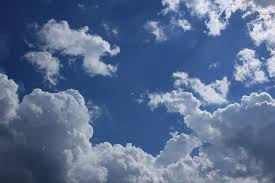sky: (1, 1, 275, 183)
